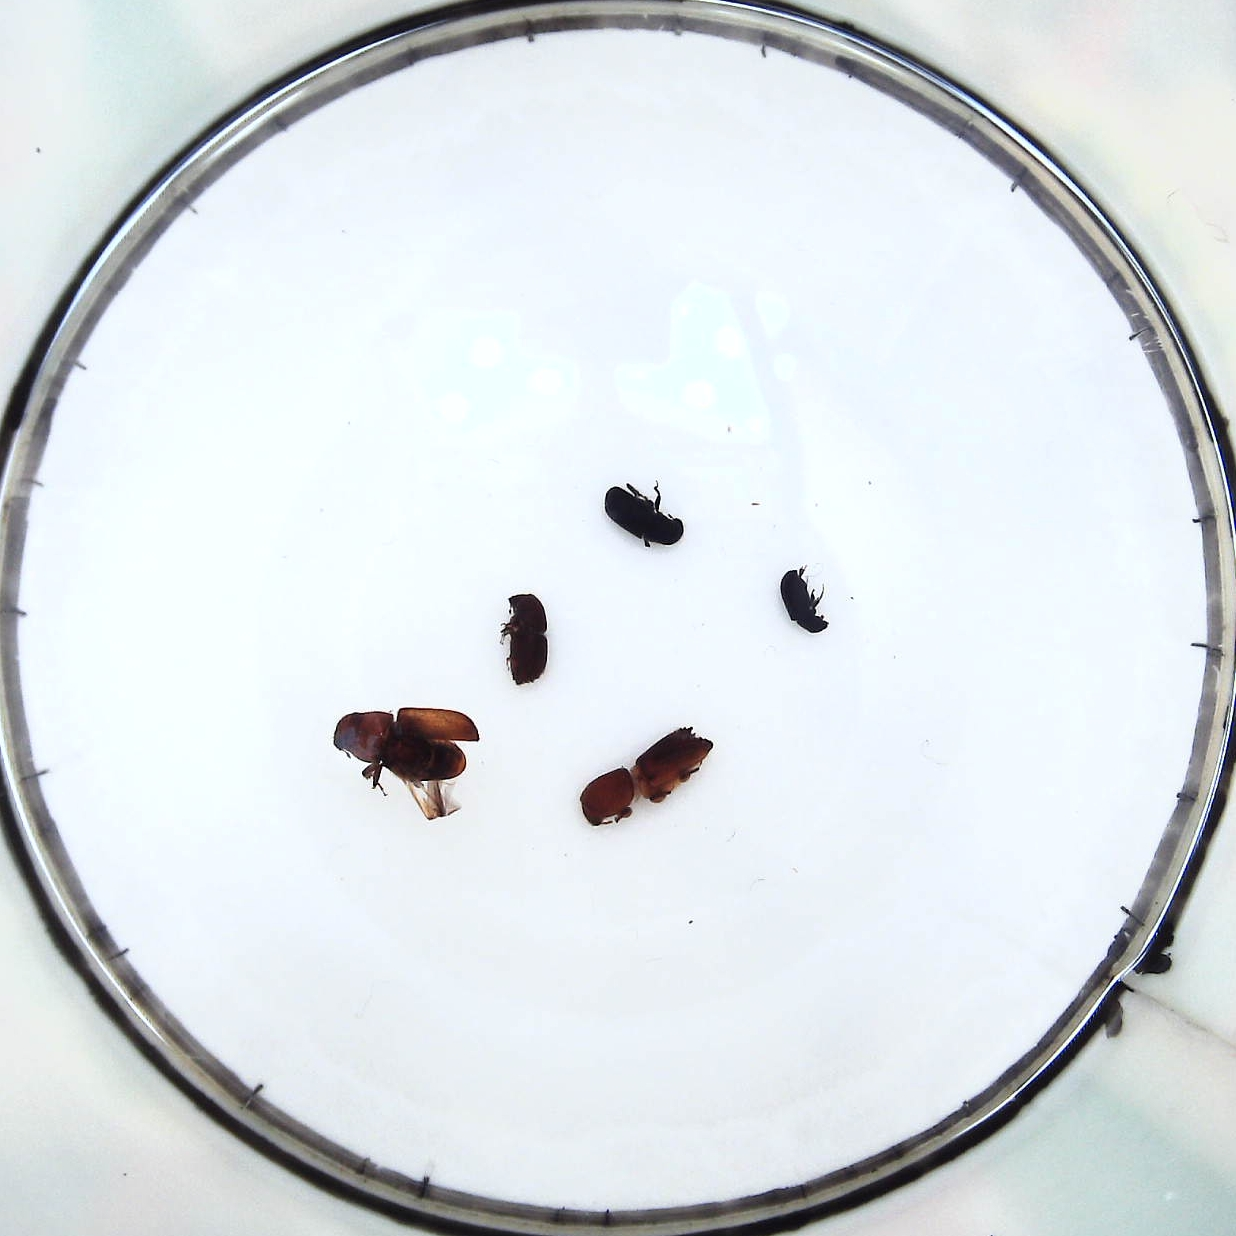Boerner: (580, 722, 712, 830)
Leconte: (334, 698, 482, 819)
Linnaeus: (503, 587, 558, 693)
armandi: (604, 481, 685, 549)
coleoptera: (780, 566, 834, 637)
